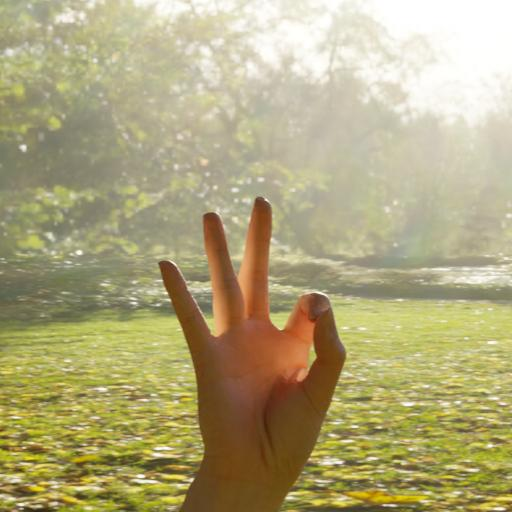F: (144, 176, 371, 506)
